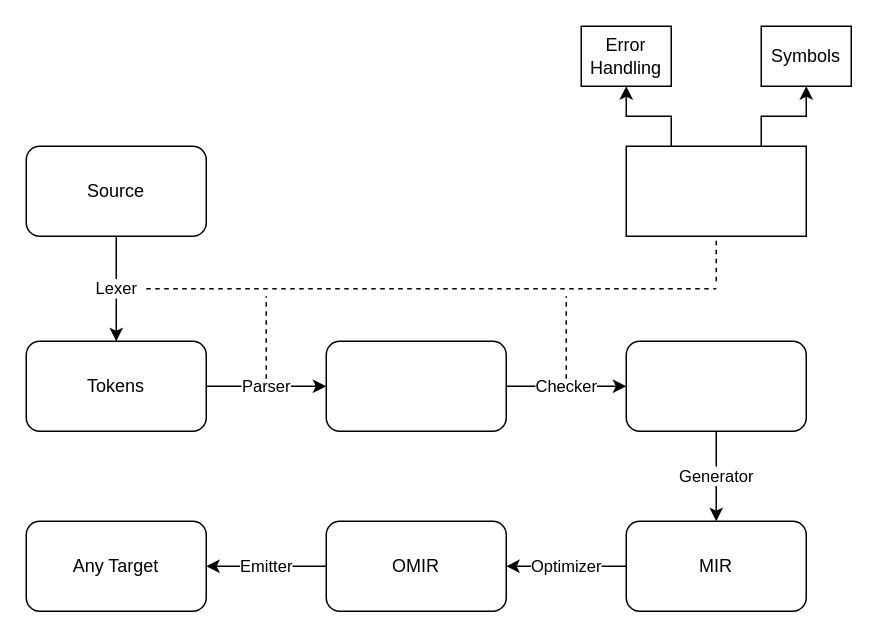
The diagram is 878 pixels wide and 638 high, and some of its shapes have lost their labels. Here are the shapes that lost their labels. From the top down, the box of each, then its label:
(625, 145, 806, 236): Compilation Tower
(325, 340, 506, 431): AST
(625, 340, 806, 431): Checked AST
